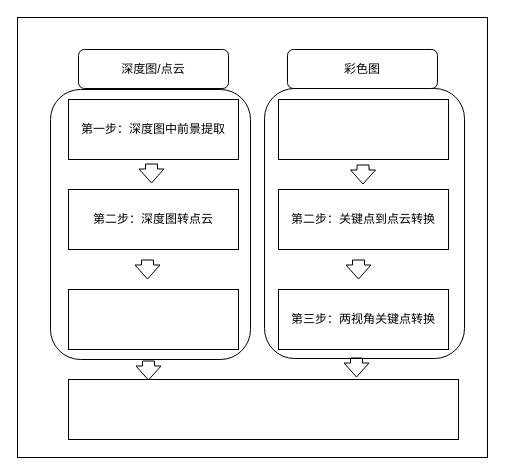
Some shapes in this 505 by 475 pixel diagram are drawn without their labels. The shapes that lost their labels are listed below. From the top down, each one's box as (x1, y1, x2, y2) in pixels, then its label:
(278, 98, 448, 160): 第一步：彩色图关键点提取
(68, 288, 238, 350): 第三步：两视角点云配准（通过外参）
(68, 378, 458, 440): 第四步：使用点云上关键点坐标计算体尺
